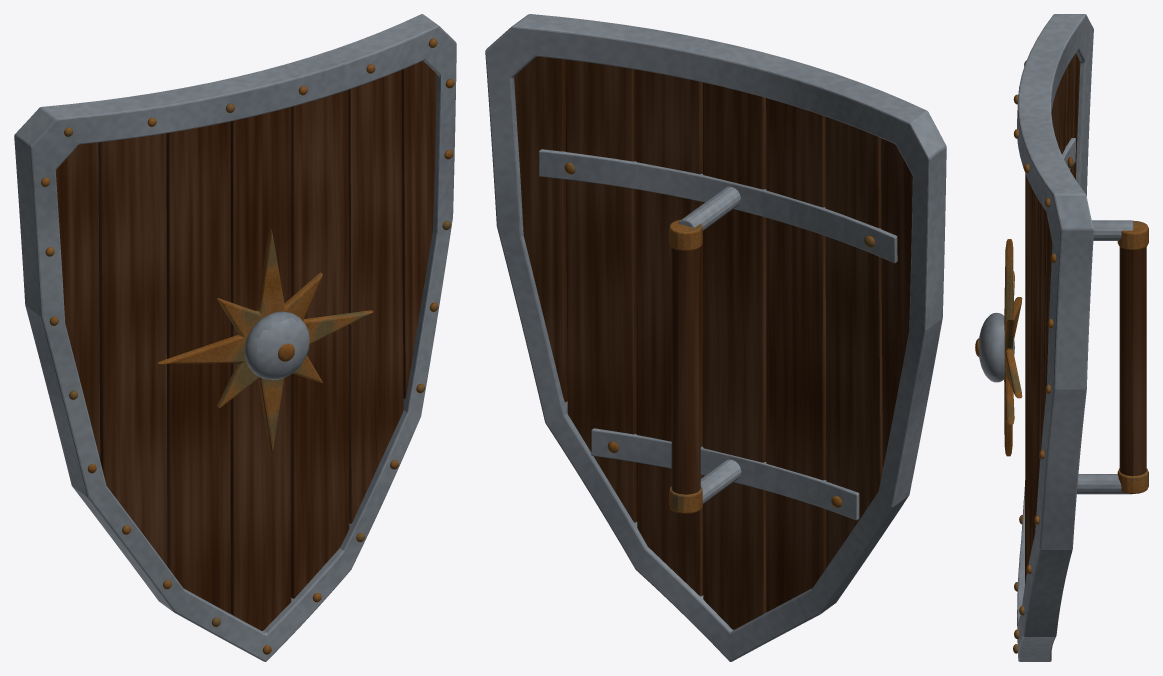
Rendered from escudo_vigilia.glb.
The picture shows the model from 3 angles, left to right: view 1: azimuth 30°, elevation 25°; view 2: azimuth 150°, elevation 25°; view 3: azimuth 270°, elevation 25°; orthographic projection. The views are drawn at different scales.
Visible parts, largest first — view 1: Acero · marco perimetral, Roble · tablón 03, Roble · tablón 02, Roble · tablón 05, Roble · tablón 04, Roble · tablón 06, Roble · tablón 01, Roble · tablón 07, Bronce · rosa de la vigilia, Acero · umbo central; view 2: Acero · marco perimetral, Roble · tablón 04, Roble · tablón 03, Roble · tablón 06, Roble · tablón 05, Roble · tablón 02, Roble · tablón 07, Acero · travesaño trasero 0.3, Madera · empuñadura, Roble · tablón 01, Acero · travesaño trasero -0.22, Acero · soporte del puño.001 (+3 smaller); view 3: Acero · marco perimetral, Madera · empuñadura, Roble · tablón 06, Roble · tablón 05, Bronce · rosa de la vigilia, Acero · umbo central, Roble · tablón 01, Acero · soporte del puño, Roble · tablón 02, Acero · soporte del puño.001, Roble · tablón 07, Bronce · collar del puño.001 (+2 smaller).
Part boxes in pixels (x1,y1,x2,y2): Acero · marco perimetral: (14, 14, 456, 661); Roble · tablón 03: (166, 121, 230, 613); Roble · tablón 02: (98, 133, 167, 565); Roble · tablón 05: (291, 90, 349, 598); Roble · tablón 04: (230, 107, 291, 630); Roble · tablón 06: (348, 70, 403, 523); Roble · tablón 01: (55, 142, 100, 459); Roble · tablón 07: (401, 61, 436, 398); Bronce · rosa de la vigilia: (157, 228, 373, 453); Acero · umbo central: (244, 311, 309, 380); Acero · marco perimetral: (485, 14, 946, 661); Roble · tablón 04: (703, 82, 766, 629); Roble · tablón 03: (766, 98, 826, 612); Roble · tablón 06: (565, 59, 637, 522); Roble · tablón 05: (636, 69, 703, 596); Roble · tablón 02: (825, 116, 882, 567); Roble · tablón 07: (514, 56, 567, 402); Acero · travesaño trasero 0.3: (539, 149, 897, 263); Madera · empuñadura: (671, 247, 700, 494); Roble · tablón 01: (881, 138, 912, 467); Acero · travesaño trasero -0.22: (591, 428, 859, 520); Acero · soporte del puño.001: (678, 186, 740, 230); Acero · marco perimetral: (1017, 14, 1093, 661); Madera · empuñadura: (1119, 247, 1146, 476); Roble · tablón 06: (1031, 191, 1046, 549); Roble · tablón 05: (1025, 174, 1032, 581); Bronce · rosa de la vigilia: (1004, 239, 1022, 456); Acero · umbo central: (979, 312, 1014, 382); Roble · tablón 01: (1065, 53, 1080, 179); Acero · soporte del puño: (1077, 474, 1131, 494); Roble · tablón 02: (1052, 69, 1066, 154); Acero · soporte del puño.001: (1092, 220, 1133, 240); Roble · tablón 07: (1045, 217, 1052, 404); Bronce · collar del puño.001: (1117, 220, 1148, 250).
Size of the model in its own units: 0.8854 by 1.14 by 0.3229.
Materials: 3 (3 with a texture image).
